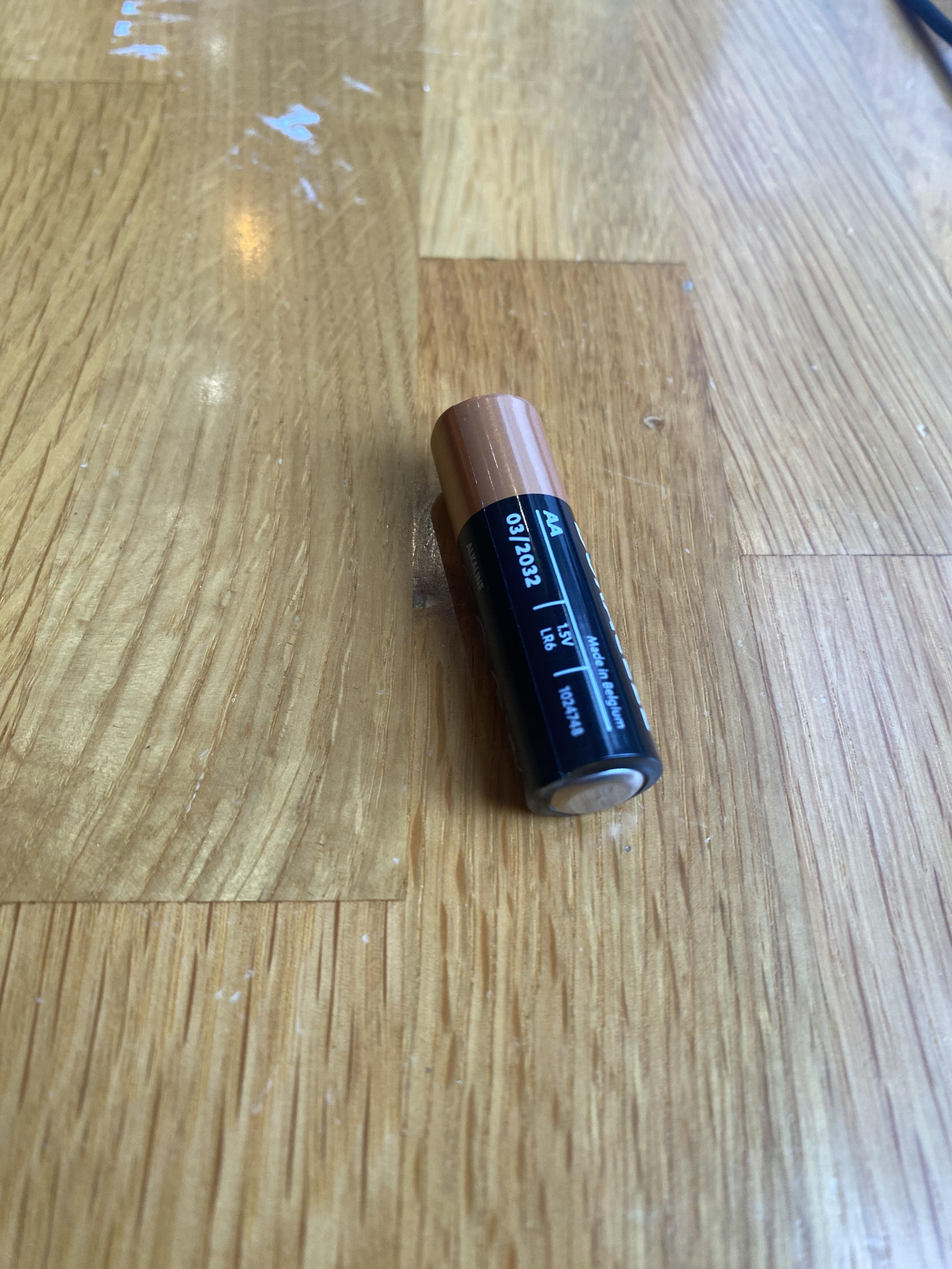AA: (428, 391, 664, 817)
